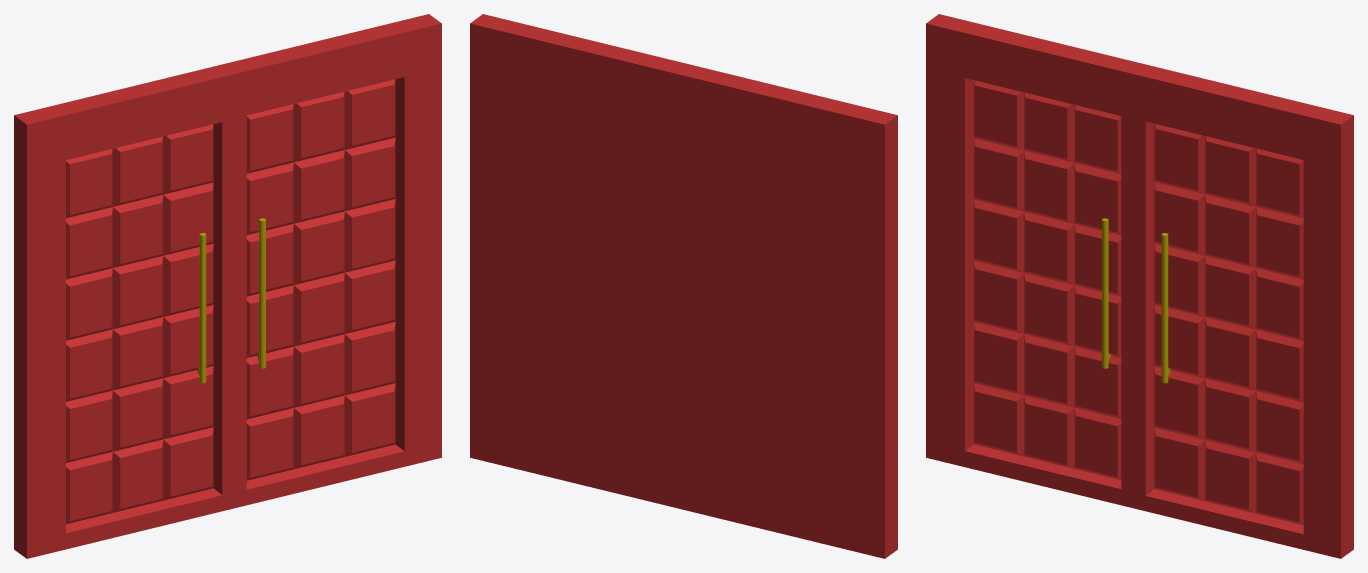
Rendered from Door.fbx.
3 renders of one model, left to right at view 1: azimuth 30°, elevation 25°; view 2: azimuth 150°, elevation 25°; view 3: azimuth 330°, elevation 25°, orthographic.
Visible parts, largest first — view 1: pCube1, pCylinder2, pCylinder1; view 2: pCube1; view 3: pCube1, pCylinder1, pCylinder2.
Boxes of the visible parts, box(x1,y1,x2,y2) form: pCube1: box(14, 14, 441, 558); pCylinder2: box(197, 233, 206, 383); pCylinder1: box(257, 218, 265, 368); pCube1: box(470, 14, 897, 558); pCube1: box(926, 14, 1353, 558); pCylinder1: box(1161, 233, 1170, 383); pCylinder2: box(1102, 218, 1110, 368).
Bounding box in the file's own units: 8.79 × 8.79 × 0.4763.
